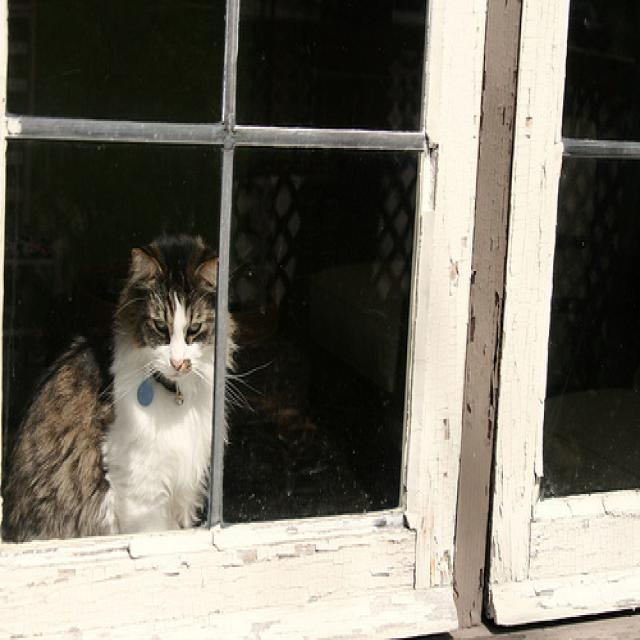Maine_Coon: (122, 234, 233, 394)
